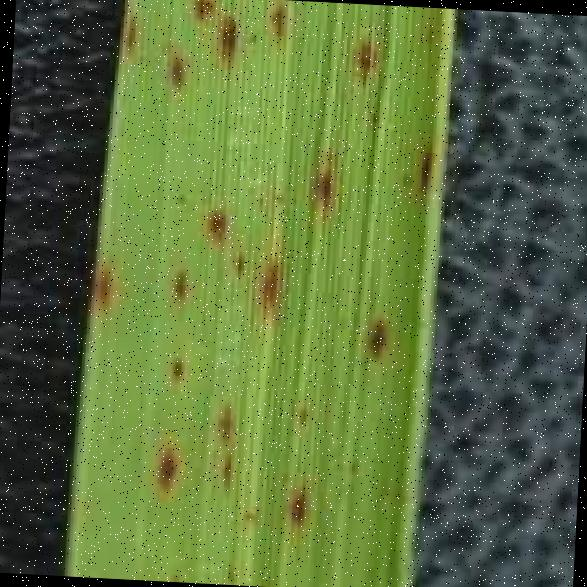Brown_Spot: (298, 138, 362, 212), (347, 302, 396, 370), (335, 25, 386, 84), (275, 476, 326, 530), (184, 196, 238, 244), (144, 434, 183, 497), (250, 250, 287, 314), (78, 254, 120, 310), (204, 392, 243, 450), (153, 40, 192, 94), (407, 130, 436, 202), (200, 8, 239, 54), (261, 0, 297, 43), (115, 0, 142, 52), (284, 394, 316, 432), (162, 342, 188, 386), (163, 260, 189, 300), (221, 244, 248, 274), (183, 0, 215, 18)
